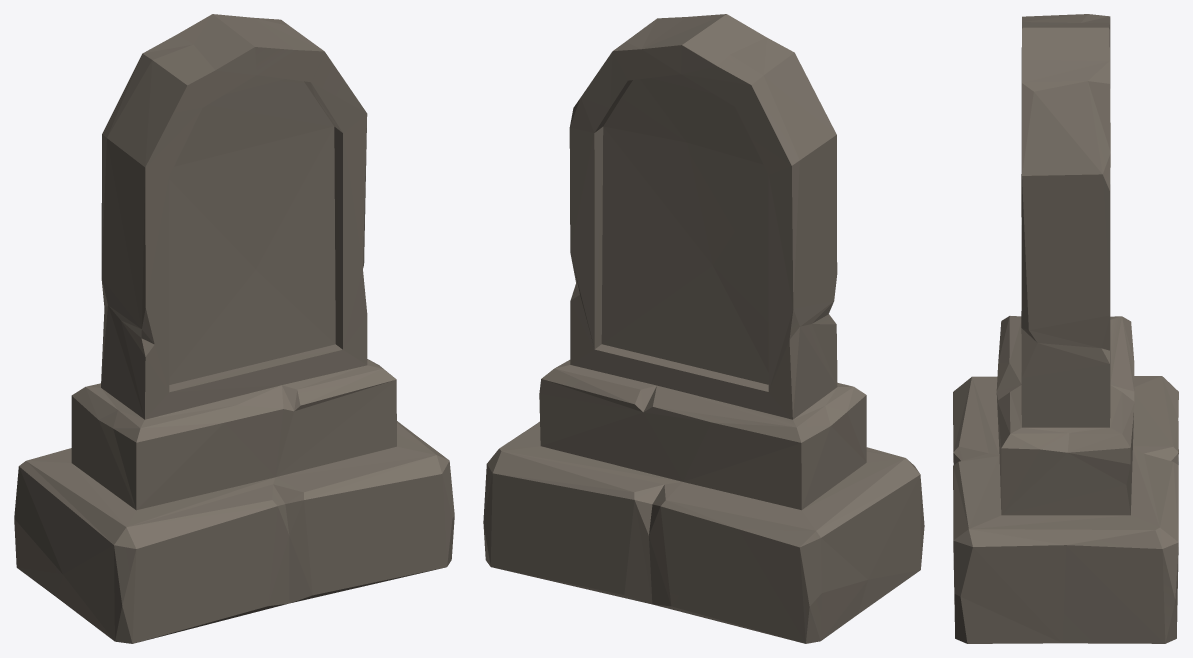
File: mdvl_props_grave_marker_01.glb
The picture shows the model from 3 angles, left to right: view 1: azimuth 30°, elevation 25°; view 2: azimuth 150°, elevation 25°; view 3: azimuth 270°, elevation 25°; orthographic projection.
Parts seen in each view (by area): view 1: mdvl_props_grave_marker_01; view 2: mdvl_props_grave_marker_01; view 3: mdvl_props_grave_marker_01.
Part boxes in pixels (<box>): mdvl_props_grave_marker_01: <box>14,14,454,643</box>; mdvl_props_grave_marker_01: <box>483,14,924,643</box>; mdvl_props_grave_marker_01: <box>953,14,1178,643</box>.
Bounding box in the file's own units: 0.5309 × 0.8036 × 0.3079.
1 material, 1 textured.
